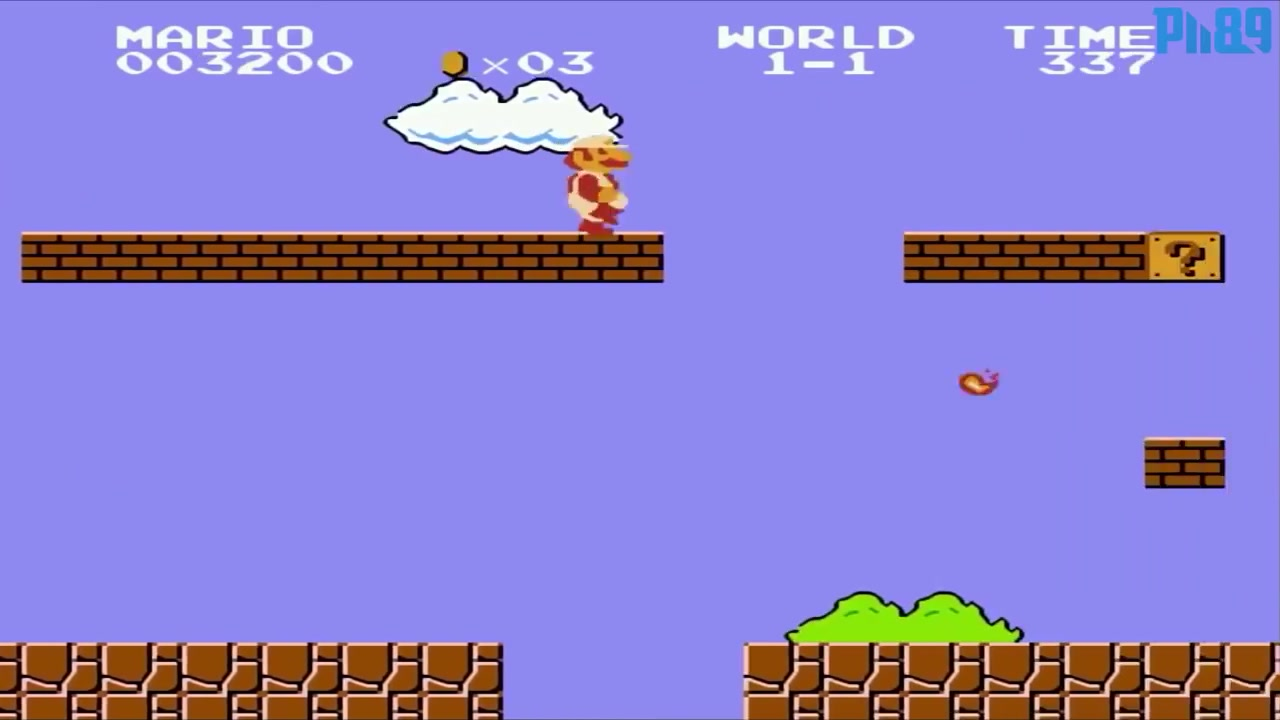mario: (552, 124, 634, 238)
